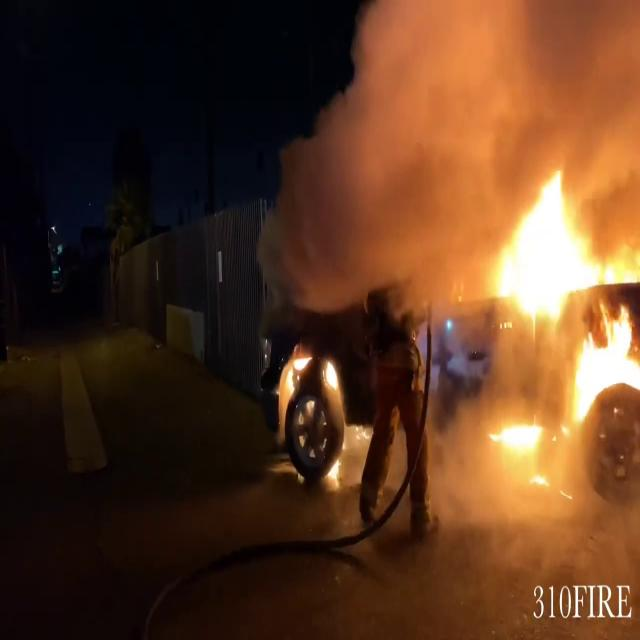Fire: (477, 165, 640, 438), (277, 347, 343, 409), (488, 412, 550, 465)
Smoke: (259, 0, 640, 257)
